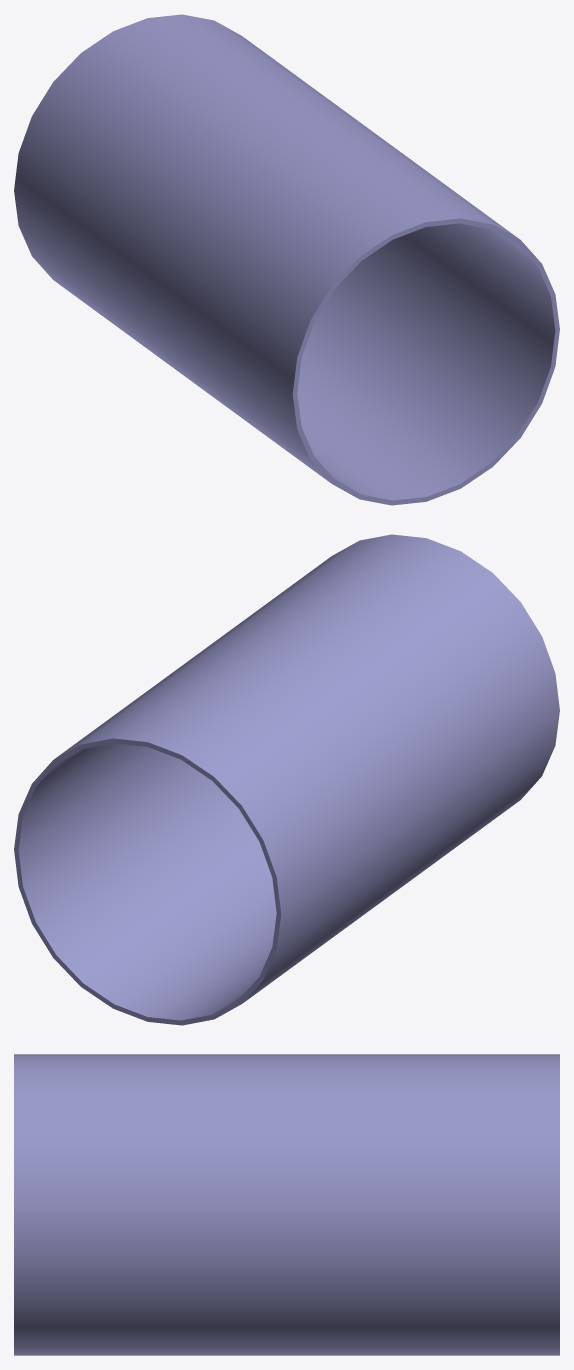
File: DCDownBPipePipe.gltf
3 views of the same model, one above another, from view 1: azimuth 30°, elevation 25°; view 2: azimuth 150°, elevation 25°; view 3: azimuth 270°, elevation 25° (orthographic). The views are drawn at different scales.
Visible parts, largest first — view 1: logicDCDownBPipePipe_pv0x2234d00; view 2: logicDCDownBPipePipe_pv0x2234d00; view 3: logicDCDownBPipePipe_pv0x2234d00.
Part boxes in pixels (<box>): logicDCDownBPipePipe_pv0x2234d00: <box>14,14,559,505</box>; logicDCDownBPipePipe_pv0x2234d00: <box>14,534,559,1025</box>; logicDCDownBPipePipe_pv0x2234d00: <box>14,1054,559,1355</box>.
Size of the model in its own units: 15.29 by 15.29 by 27.61.
